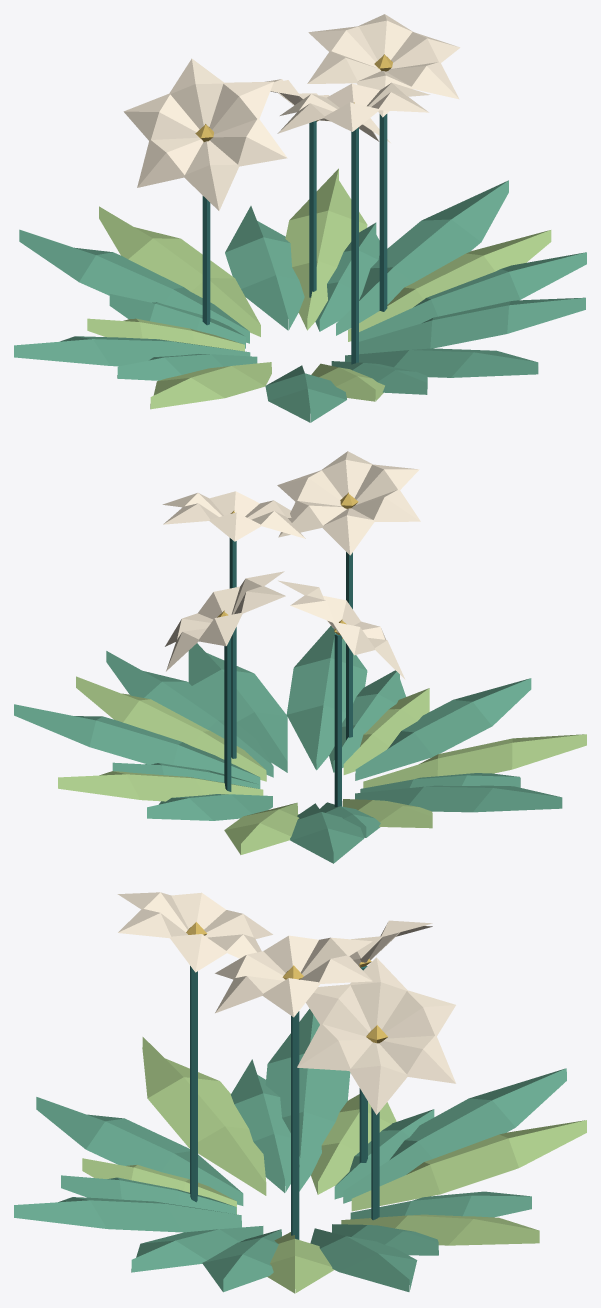
The model's file is orchid.glb.
3 renders of one model, top to bottom at view 1: azimuth 30°, elevation 25°; view 2: azimuth 150°, elevation 25°; view 3: azimuth 270°, elevation 25°, orthographic. The views are drawn at different scales.
Visible parts, largest first — view 1: Sunwen_orchid; view 2: Sunwen_orchid; view 3: Sunwen_orchid.
Boxes of the visible parts, left/top/right/bottom form: Sunwen_orchid: left=14, top=14, right=586, bottom=422; Sunwen_orchid: left=14, top=451, right=586, bottom=863; Sunwen_orchid: left=14, top=892, right=586, bottom=1293.
Bounding box in the file's own units: 1.69 × 0.901 × 1.47.
